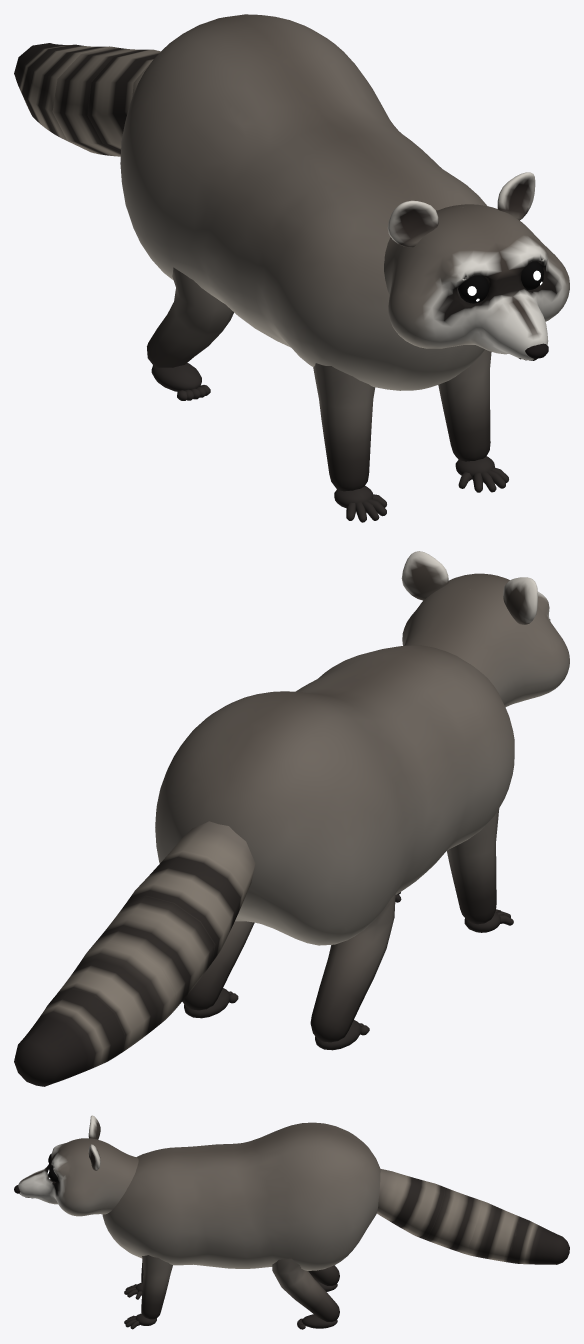
The model's file is mom.glb.
The picture shows the model from 3 angles, top to bottom: view 1: azimuth 30°, elevation 25°; view 2: azimuth 150°, elevation 25°; view 3: azimuth 270°, elevation 25°; orthographic projection. The views are drawn at different scales.
Visible parts, largest first — view 1: Body, Head, LegFR, LegBR, LegFL, Tail3, Tail2, Tail4, EarR, EarL, Tail5, EyeR; view 2: Body, Head, Tail5, Tail4, Tail3, LegBR, Tail2, LegFR, LegBL, Tail1, EarL, EarR; view 3: Body, Head, LegBL, Tail3, Tail2, Tail4, Tail5, LegFL, Tail1, LegBR.
Part boxes in pixels (x1,y1,x2,y2): Body: [120, 14, 487, 390]; Head: [384, 204, 569, 360]; LegFR: [313, 363, 386, 522]; LegBR: [147, 267, 233, 400]; LegFL: [438, 349, 508, 492]; Tail3: [52, 47, 144, 156]; Tail2: [87, 49, 160, 151]; Tail4: [27, 45, 112, 153]; EarR: [387, 200, 438, 247]; EarL: [497, 172, 535, 220]; Tail5: [14, 43, 81, 122]; EyeR: [458, 275, 488, 303]; Body: [155, 645, 514, 945]; Head: [402, 573, 569, 707]; Tail5: [14, 988, 124, 1086]; Tail4: [56, 941, 175, 1052]; Tail3: [90, 896, 214, 1012]; LegBR: [310, 894, 395, 1050]; Tail2: [127, 850, 244, 962]; LegFR: [447, 808, 513, 932]; LegBL: [182, 921, 254, 1018]; Tail1: [167, 821, 255, 903]; EarL: [401, 551, 448, 600]; EarR: [503, 577, 537, 624]; Body: [102, 1122, 380, 1270]; Head: [18, 1138, 138, 1216]; LegBL: [272, 1258, 339, 1329]; Tail3: [424, 1187, 482, 1253]; Tail2: [386, 1175, 444, 1239]; Tail4: [465, 1201, 519, 1262]; Tail5: [508, 1217, 569, 1264]; LegFL: [124, 1255, 172, 1329]; Tail1: [377, 1169, 405, 1218]; LegBR: [308, 1265, 339, 1291].
Bounding box in the file's own units: 0.2943 × 0.4207 × 1.17.
